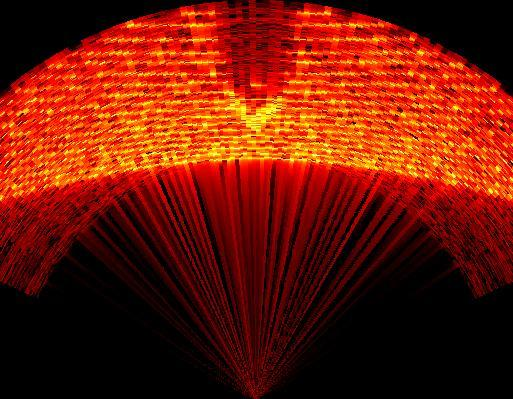box_crate: (217, 8, 299, 136)
